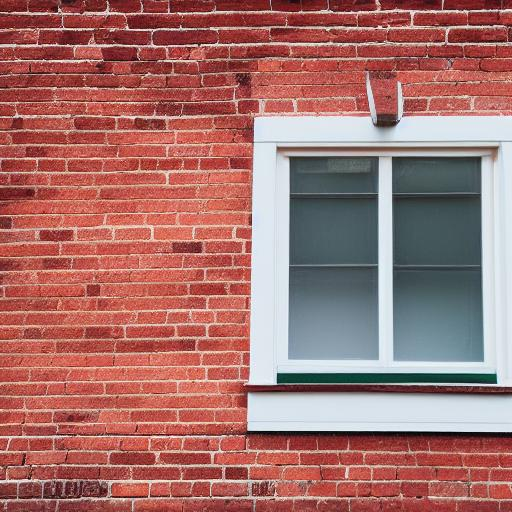Window: (246, 81, 511, 438)
